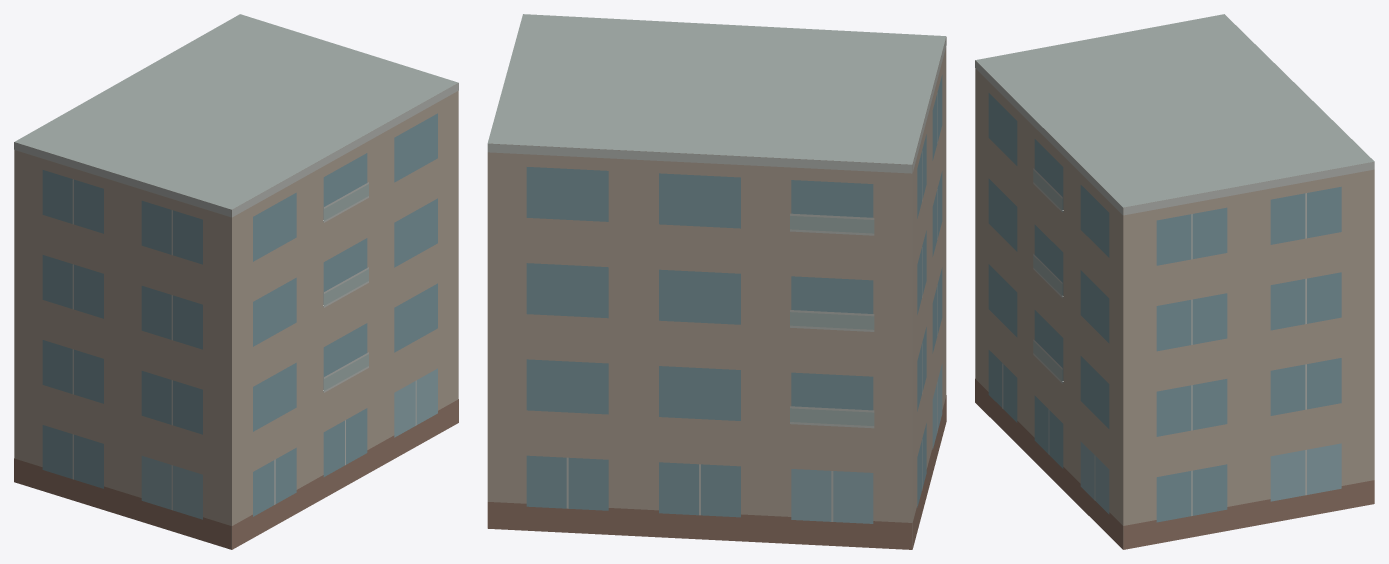
Rendered from survey-upis-32775095.glb.
The picture shows the model from 3 angles, left to right: view 1: azimuth 30°, elevation 25°; view 2: azimuth 150°, elevation 25°; view 3: azimuth 270°, elevation 25°; orthographic projection. The views are drawn at different scales.
Visible parts, largest first — view 1: survey-upis-32775095.tmp; view 2: survey-upis-32775095.tmp; view 3: survey-upis-32775095.tmp.
Boxes of the visible parts, x1,y1,x2,y2 form: survey-upis-32775095.tmp: (14, 14, 458, 549); survey-upis-32775095.tmp: (487, 14, 946, 549); survey-upis-32775095.tmp: (975, 14, 1374, 549).
Size of the model in its own units: 12.87 by 10.6 by 11.22.
